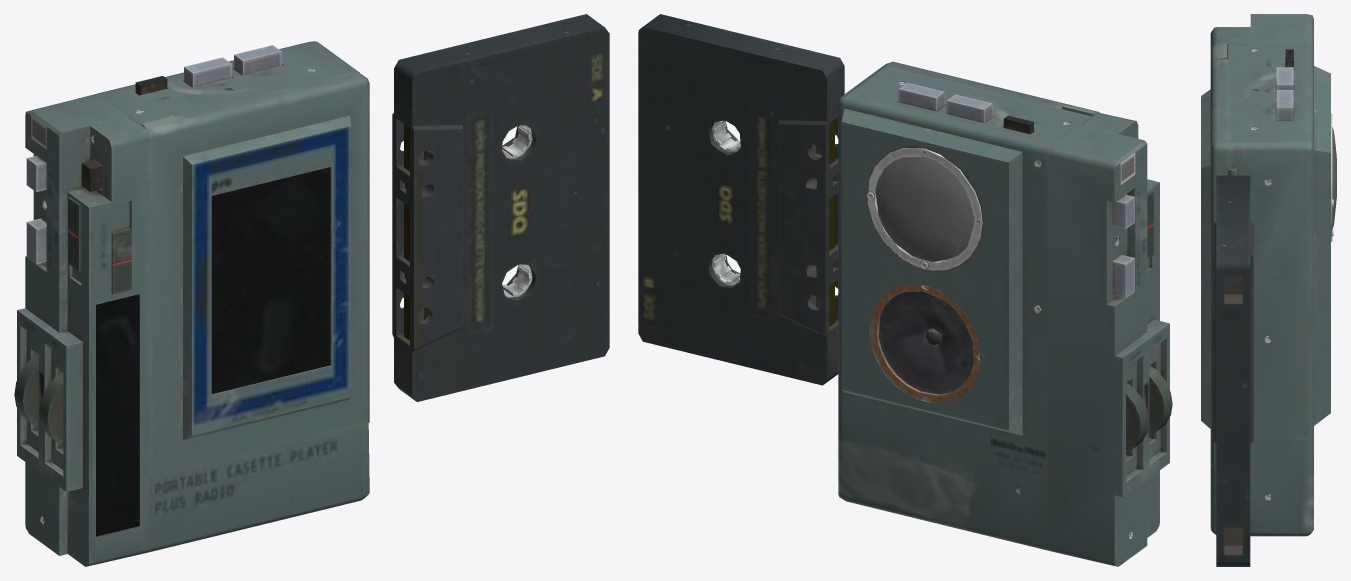
The model's file is portable_cassette_player.glb.
The picture shows the model from 3 angles, left to right: view 1: azimuth 30°, elevation 25°; view 2: azimuth 150°, elevation 25°; view 3: azimuth 270°, elevation 25°; orthographic projection. The views are drawn at different scales.
Visible parts, largest first — view 1: portable_cassette_player_lid; view 2: portable_cassette_player_lid; view 3: portable_cassette_player_lid.
Part boxes in pixels (<box>): portable_cassette_player_lid: <box>14,14,609,566</box>; portable_cassette_player_lid: <box>638,14,1172,566</box>; portable_cassette_player_lid: <box>1201,14,1336,566</box>.
Size of the model in its own units: 0.1723 by 0.1303 by 0.0396.
2 materials, 2 textured.
